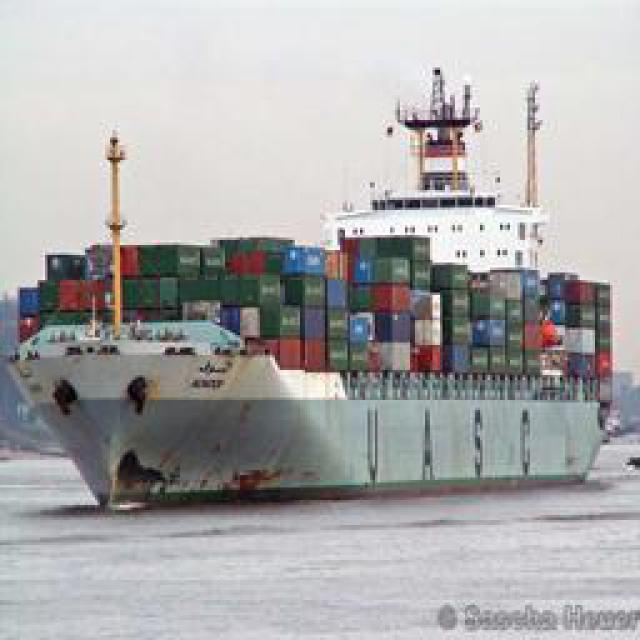Ship: (12, 51, 610, 494)
